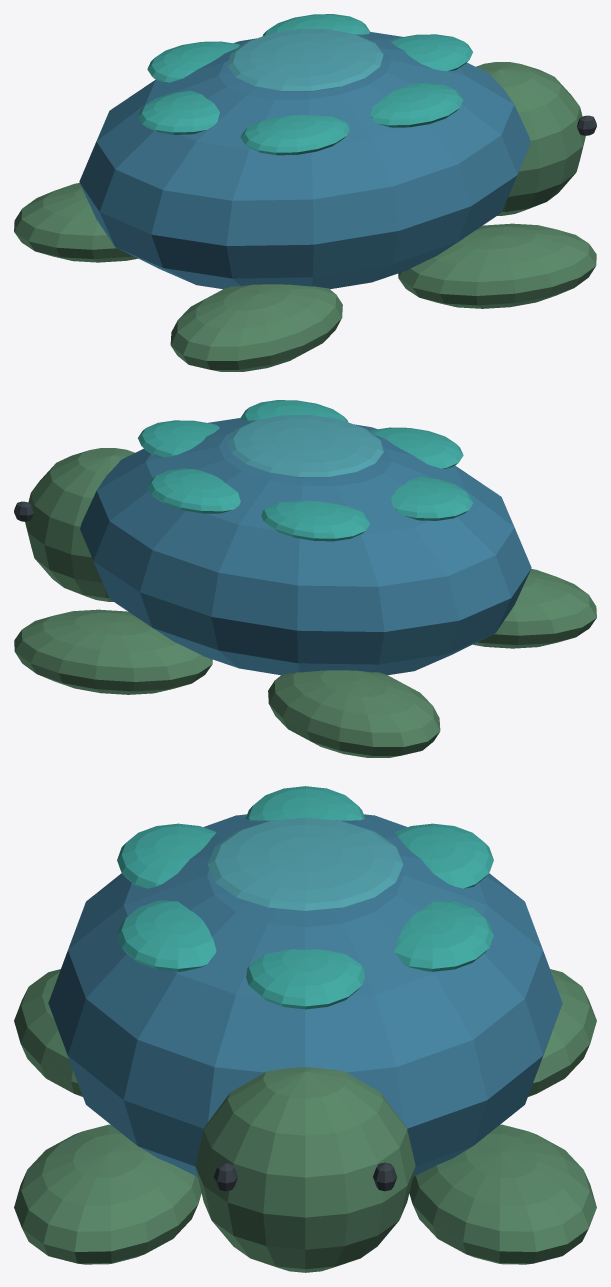
Rendered from palau-turtle-charm.glb.
3 views of the same model, one above another, from view 1: azimuth 30°, elevation 25°; view 2: azimuth 150°, elevation 25°; view 3: azimuth 270°, elevation 25° (orthographic). The views are drawn at different scales.
Visible parts, largest first — view 1: うみがめの こうら, まるい ひれ.002, まるい ひれ, うみがめの あたま, こうらの まんなか, まるい ひれ.001, こうらの ろっかくもよう.004, こうらの ろっかくもよう.005, こうらの ろっかくもよう.003, こうらの ろっかくもよう.002, こうらの ろっかくもよう, こうらの ろっかくもよう.001; view 2: うみがめの こうら, まるい ひれ.003, まるい ひれ.001, うみがめの あたま, こうらの まんなか, まるい ひれ, こうらの ろっかくもよう.002, こうらの ろっかくもよう.001, こうらの ろっかくもよう.003, こうらの ろっかくもよう.004, こうらの ろっかくもよう, こうらの ろっかくもよう.005; view 3: うみがめの こうら, うみがめの あたま, まるい ひれ.002, まるい ひれ.003, こうらの まんなか, こうらの ろっかくもよう, こうらの ろっかくもよう.001, こうらの ろっかくもよう.005, こうらの ろっかくもよう.002, こうらの ろっかくもよう.004, まるい ひれ, まるい ひれ.001 (+1 smaller).
Part boxes in pixels (box(x1,y1,x2,y2)): うみがめの こうら: box(79, 32, 530, 289); まるい ひれ.002: box(398, 223, 596, 308); まるい ひれ: box(170, 284, 342, 371); うみがめの あたま: box(476, 62, 585, 215); こうらの まんなか: box(227, 29, 383, 91); まるい ひれ.001: box(14, 183, 137, 262); こうらの ろっかくもよう.004: box(240, 115, 349, 155); こうらの ろっかくもよう.005: box(370, 82, 463, 127); こうらの ろっかくもよう.003: box(137, 91, 219, 134); こうらの ろっかくもよう.002: box(147, 41, 240, 82); こうらの ろっかくもよう: box(391, 34, 472, 71); こうらの ろっかくもよう.001: box(262, 14, 370, 36); うみがめの こうら: box(80, 418, 531, 675); まるい ひれ.003: box(14, 609, 212, 694); まるい ひれ.001: box(268, 670, 440, 757); うみがめの あたま: box(25, 448, 134, 601); こうらの まんなか: box(227, 415, 383, 477); まるい ひれ: box(473, 569, 596, 648); こうらの ろっかくもよう.002: box(261, 501, 370, 541); こうらの ろっかくもよう.001: box(147, 468, 240, 513); こうらの ろっかくもよう.003: box(391, 477, 473, 520); こうらの ろっかくもよう.004: box(370, 427, 463, 468); こうらの ろっかくもよう: box(138, 420, 219, 457); こうらの ろっかくもよう.005: box(240, 400, 348, 422); うみがめの こうら: box(48, 814, 562, 1177); うみがめの あたま: box(195, 1067, 415, 1272); まるい ひれ.002: box(14, 1124, 201, 1264); まるい ひれ.003: box(409, 1124, 596, 1264); こうらの まんなか: box(207, 817, 403, 911); こうらの ろっかくもよう: box(246, 949, 364, 1009); こうらの ろっかくもよう.001: box(394, 900, 493, 971); こうらの ろっかくもよう.005: box(117, 900, 216, 971); こうらの ろっかくもよう.002: box(394, 823, 493, 888); こうらの ろっかくもよう.004: box(117, 823, 216, 888); まるい ひれ: box(14, 969, 82, 1096); まるい ひれ.001: box(528, 969, 596, 1096).
Size of the model in its own units: 1.23 by 0.543 by 0.9521.
